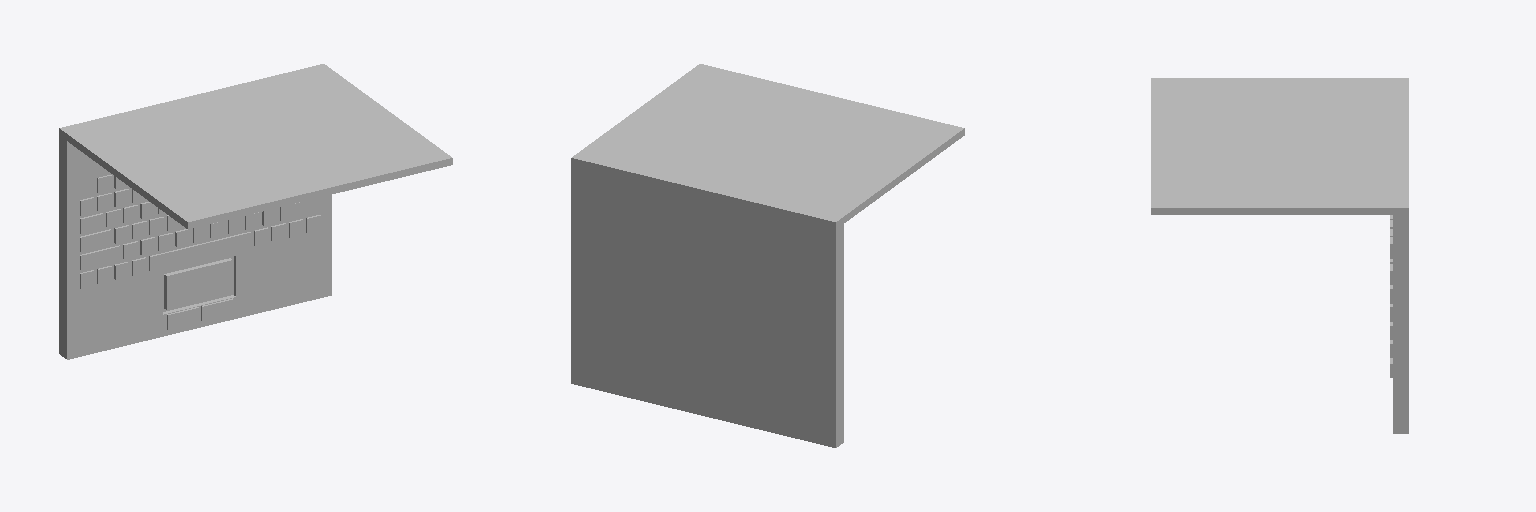
The model's file is Laptop.obj.
The picture shows the model from 3 angles: view 1: azimuth 30°, elevation 25°; view 2: azimuth 150°, elevation 25°; view 3: azimuth 270°, elevation 25°; orthographic projection.
Visible parts, largest first — view 1: MeshFeature1_1, MeshFeature1_20; view 2: MeshFeature1_1; view 3: MeshFeature1_1.
Part boxes in pixels (x1,y1,x2,y2): MeshFeature1_1: (59,64,452,359); MeshFeature1_20: (80,245,120,269); MeshFeature1_1: (571,64,964,447); MeshFeature1_1: (1151,78,1408,433).
Bounding box in the file's own units: 38000 × 31000 × 32000.